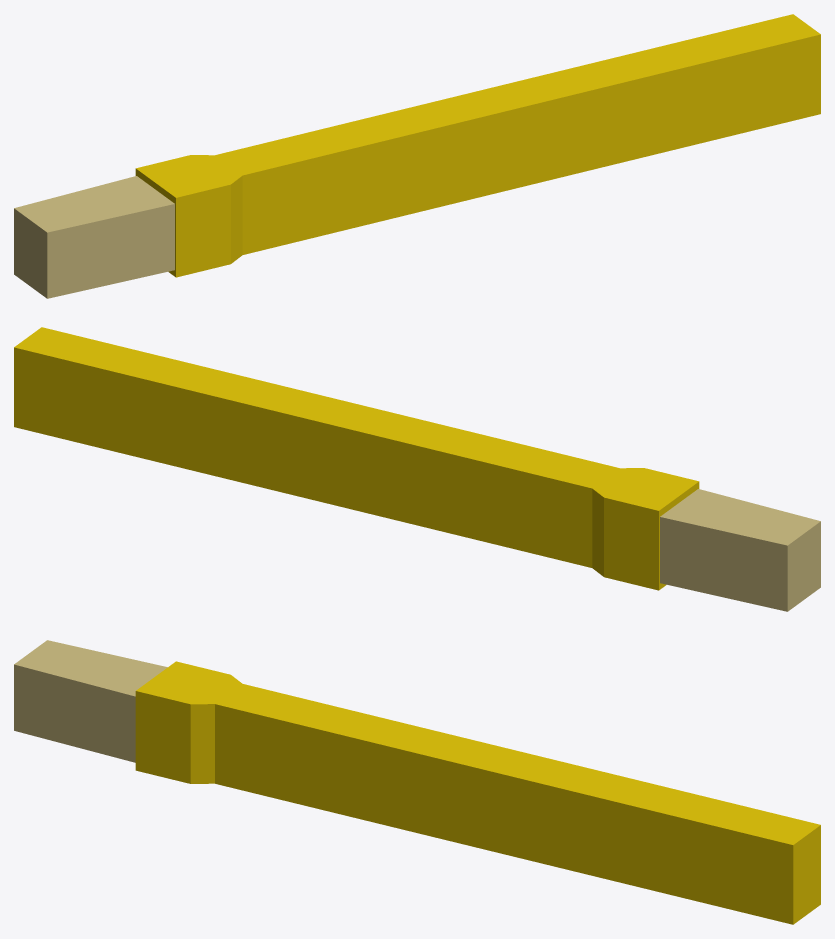
The model's file is paintbrush4.fbx.
3 views of the same model, one above another, from view 1: azimuth 30°, elevation 25°; view 2: azimuth 150°, elevation 25°; view 3: azimuth 330°, elevation 25° (orthographic).
Visible parts, largest first — view 1: Cube; view 2: Cube; view 3: Cube.
Part boxes in pixels (box(x1,y1,x2,y2)): Cube: box(14, 14, 820, 298); Cube: box(14, 327, 820, 611); Cube: box(14, 640, 820, 924).
Bounding box in the file's own units: 84.25 × 8.26 × 7.59.
